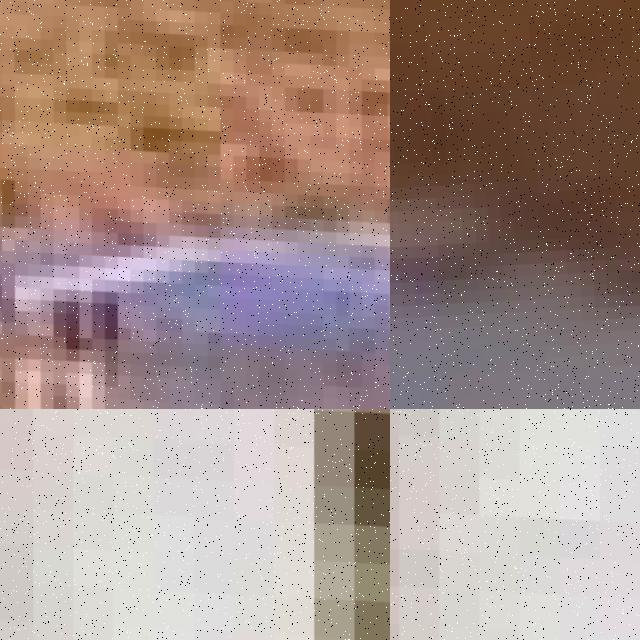drone: (0, 0, 390, 409), (0, 409, 390, 640), (390, 409, 640, 640)
